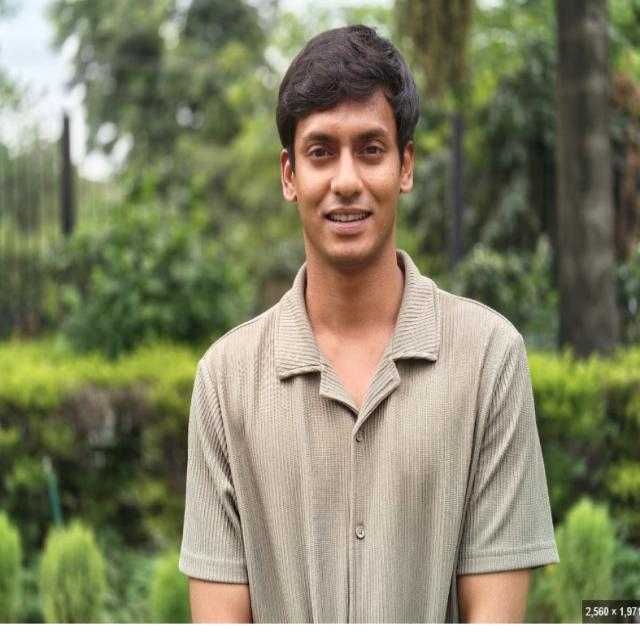face_no_mask: (281, 100, 418, 260)
